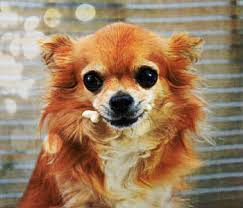chihuahua: (29, 16, 208, 205)
